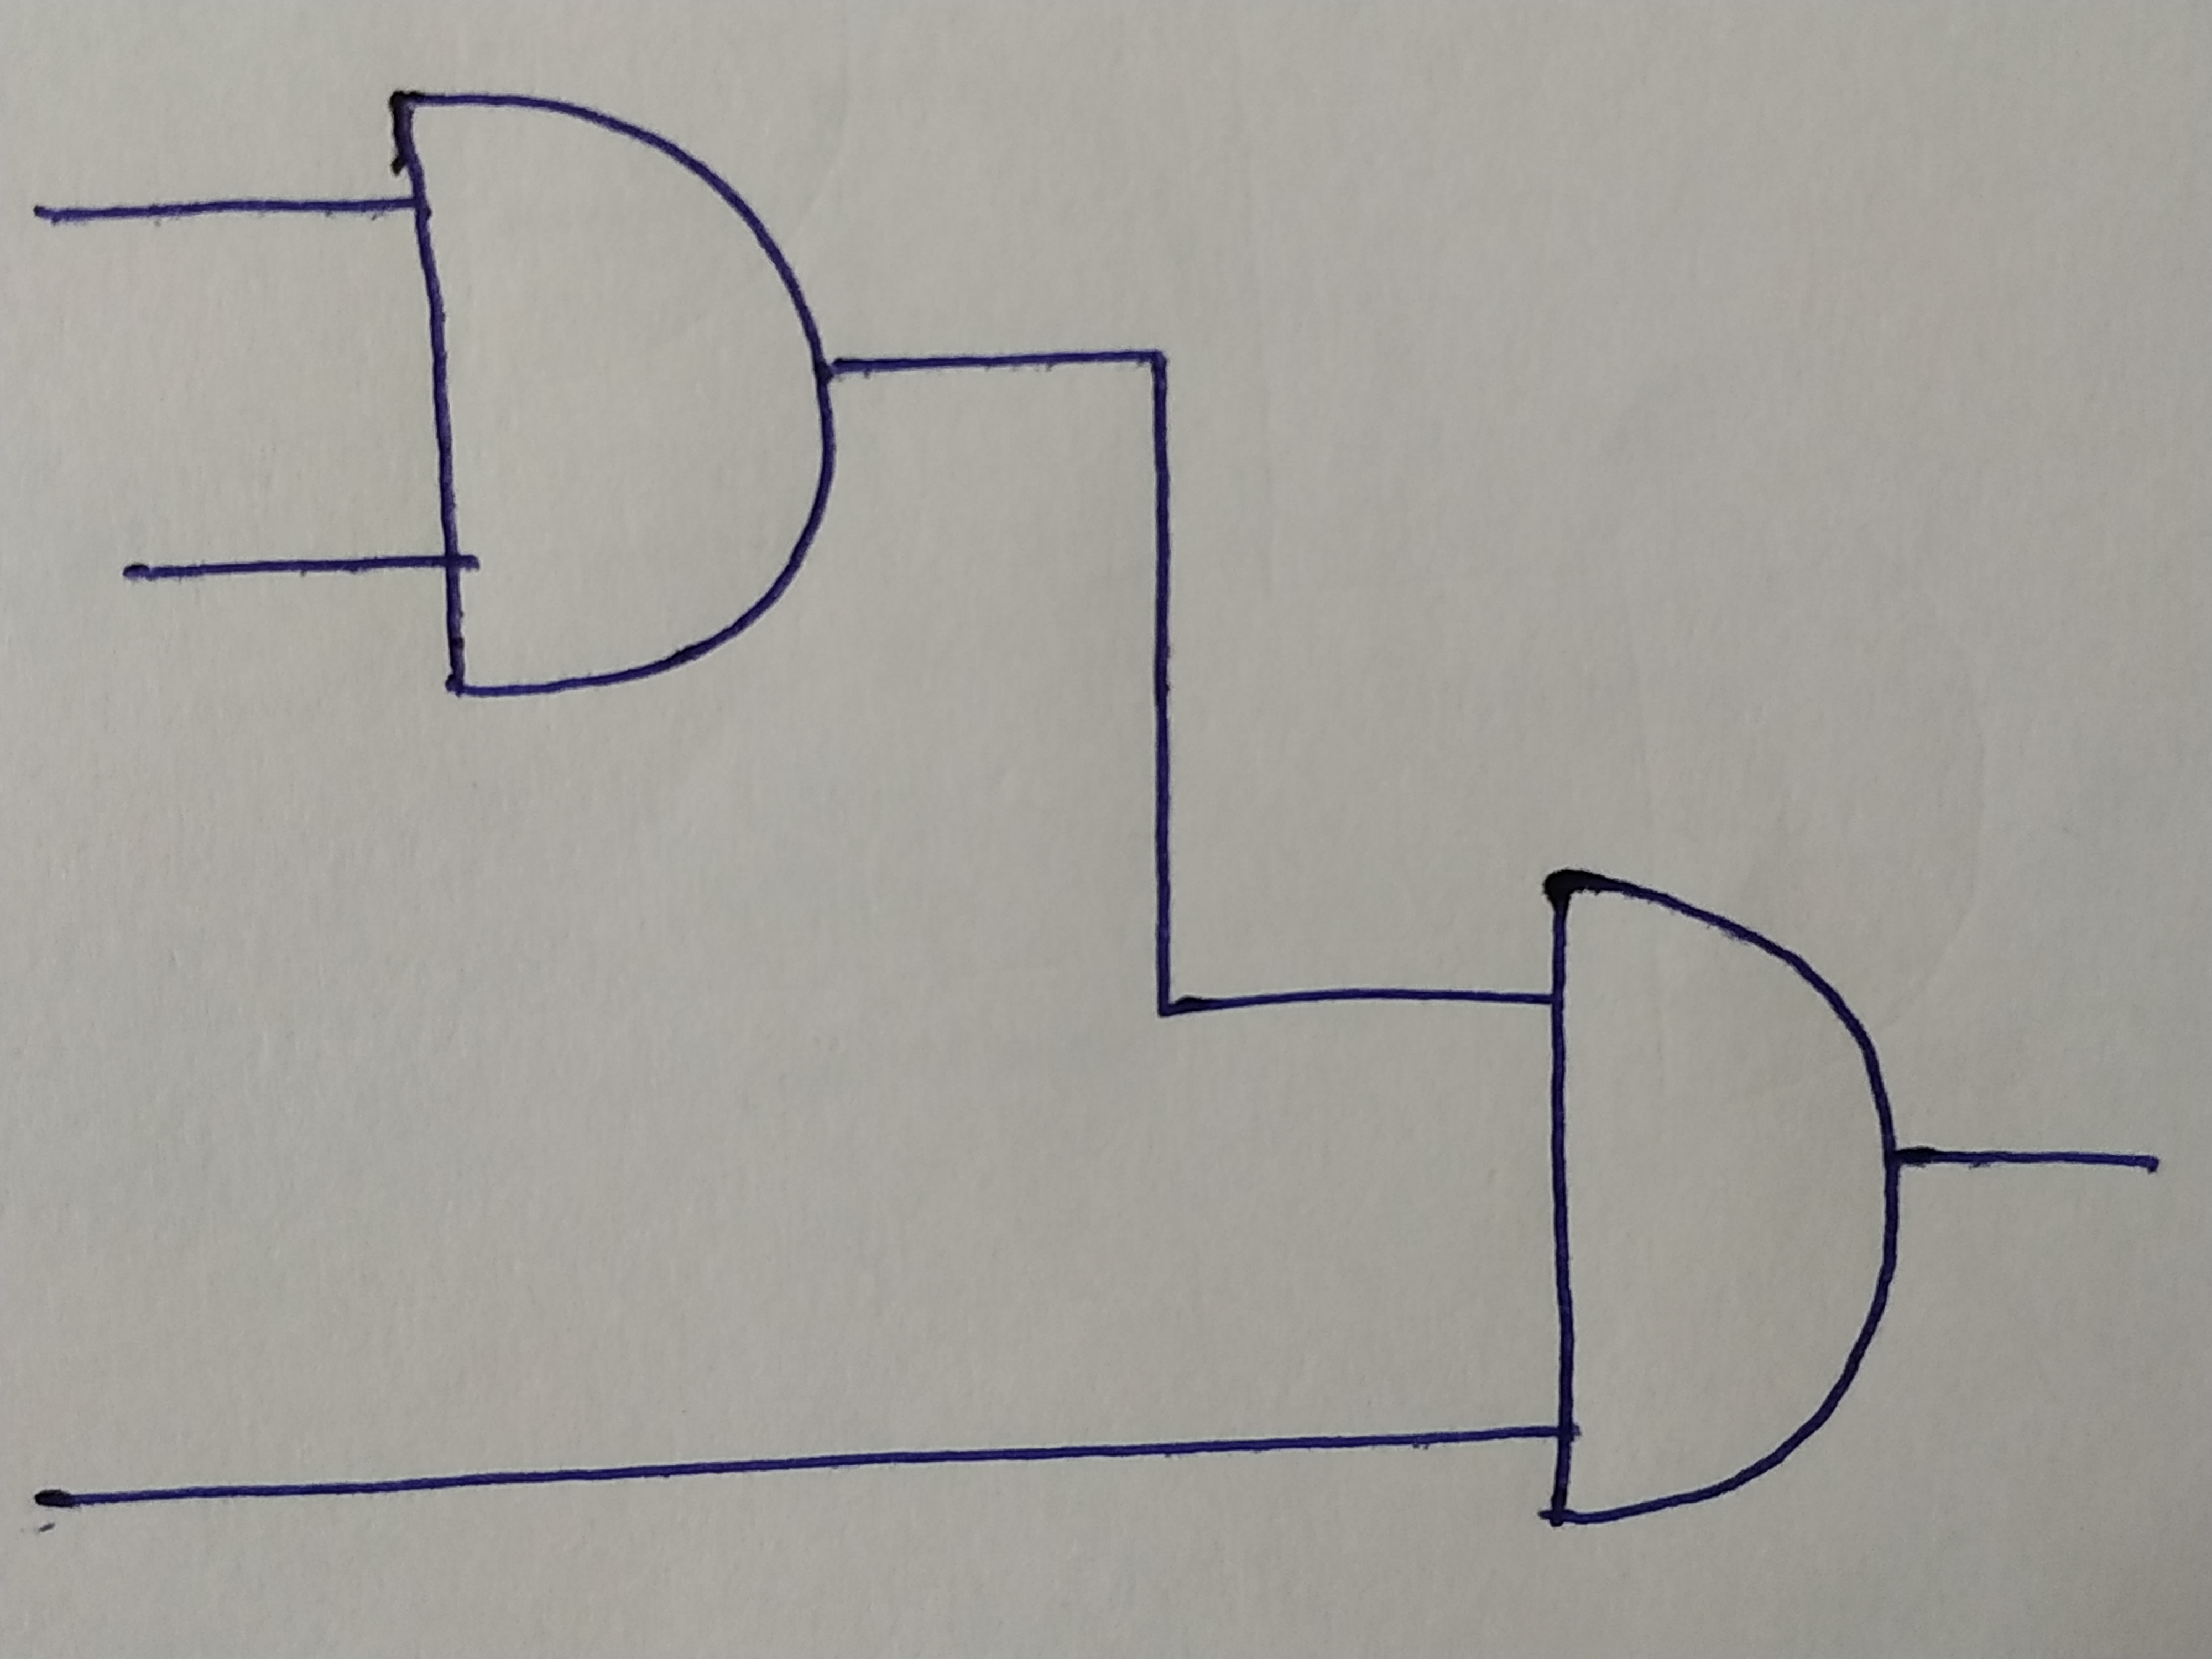and: (388, 89, 836, 695), (1547, 864, 1895, 1525)
